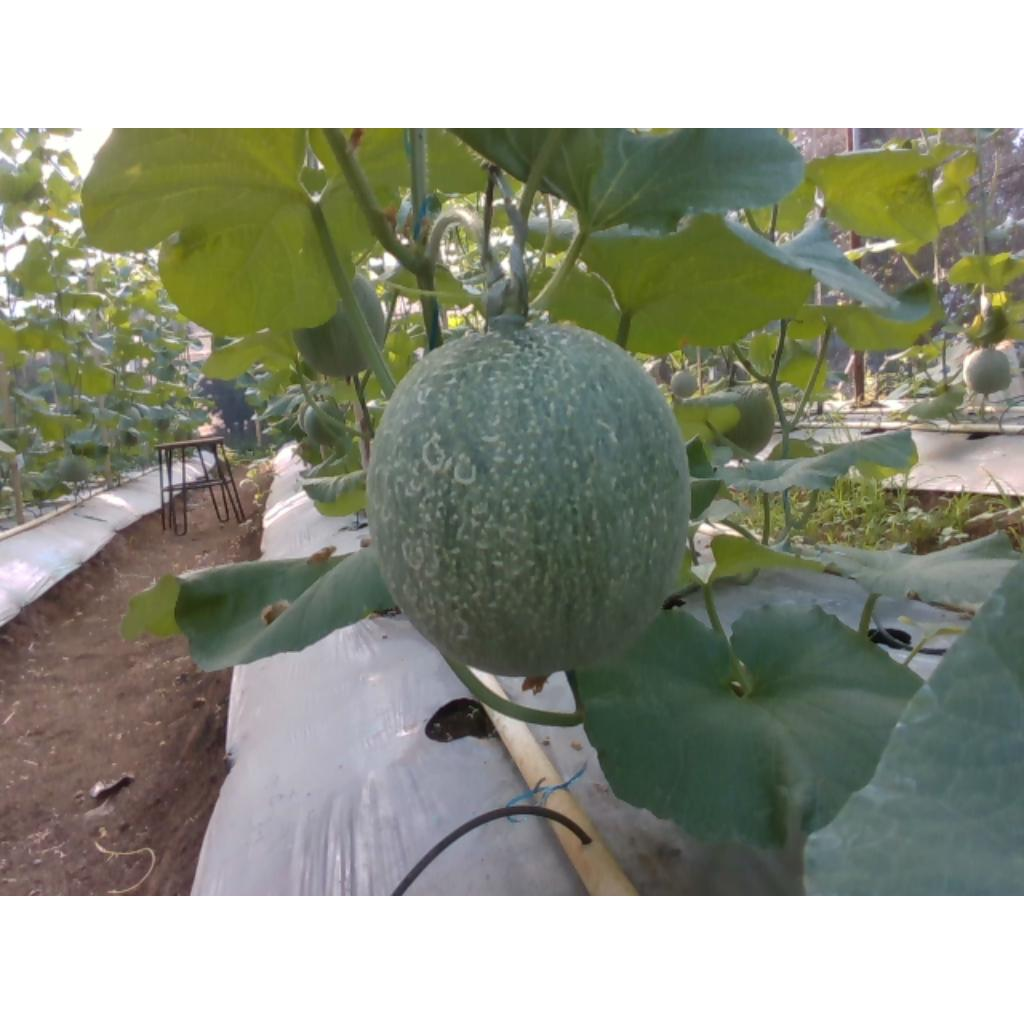melon: (368, 322, 691, 677)
